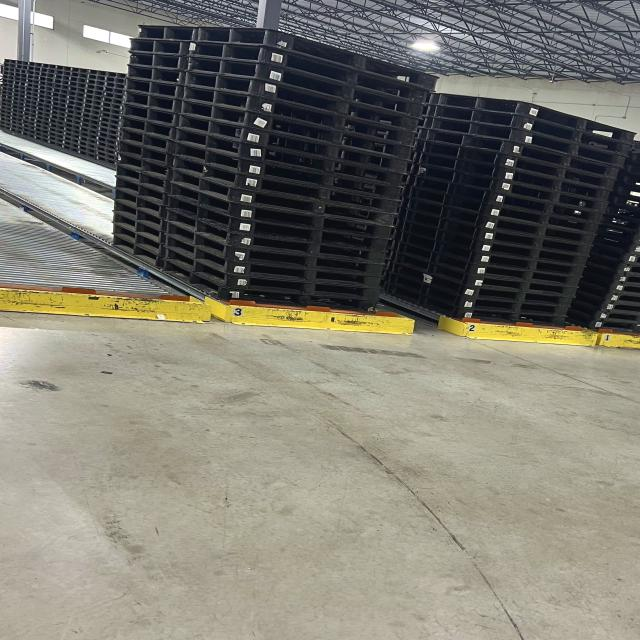igps: (192, 23, 444, 95), (184, 38, 434, 108), (181, 54, 431, 123), (178, 68, 422, 138), (173, 98, 419, 166), (168, 123, 408, 191), (166, 164, 402, 232), (168, 152, 406, 218), (166, 176, 400, 242), (167, 140, 408, 204), (160, 190, 392, 256), (160, 204, 390, 268), (158, 230, 387, 292), (161, 218, 389, 280), (158, 242, 387, 303), (157, 256, 382, 317), (422, 112, 632, 172), (430, 89, 640, 148), (430, 102, 637, 160), (418, 138, 621, 195), (412, 151, 614, 206), (404, 183, 601, 237), (400, 194, 598, 247), (396, 207, 595, 259), (392, 217, 591, 269), (408, 174, 606, 226), (386, 238, 583, 288), (391, 230, 586, 280), (387, 250, 579, 300), (379, 282, 569, 331), (386, 260, 575, 308), (382, 273, 571, 319)
